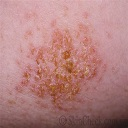Impetigo: (25, 37, 99, 96)
